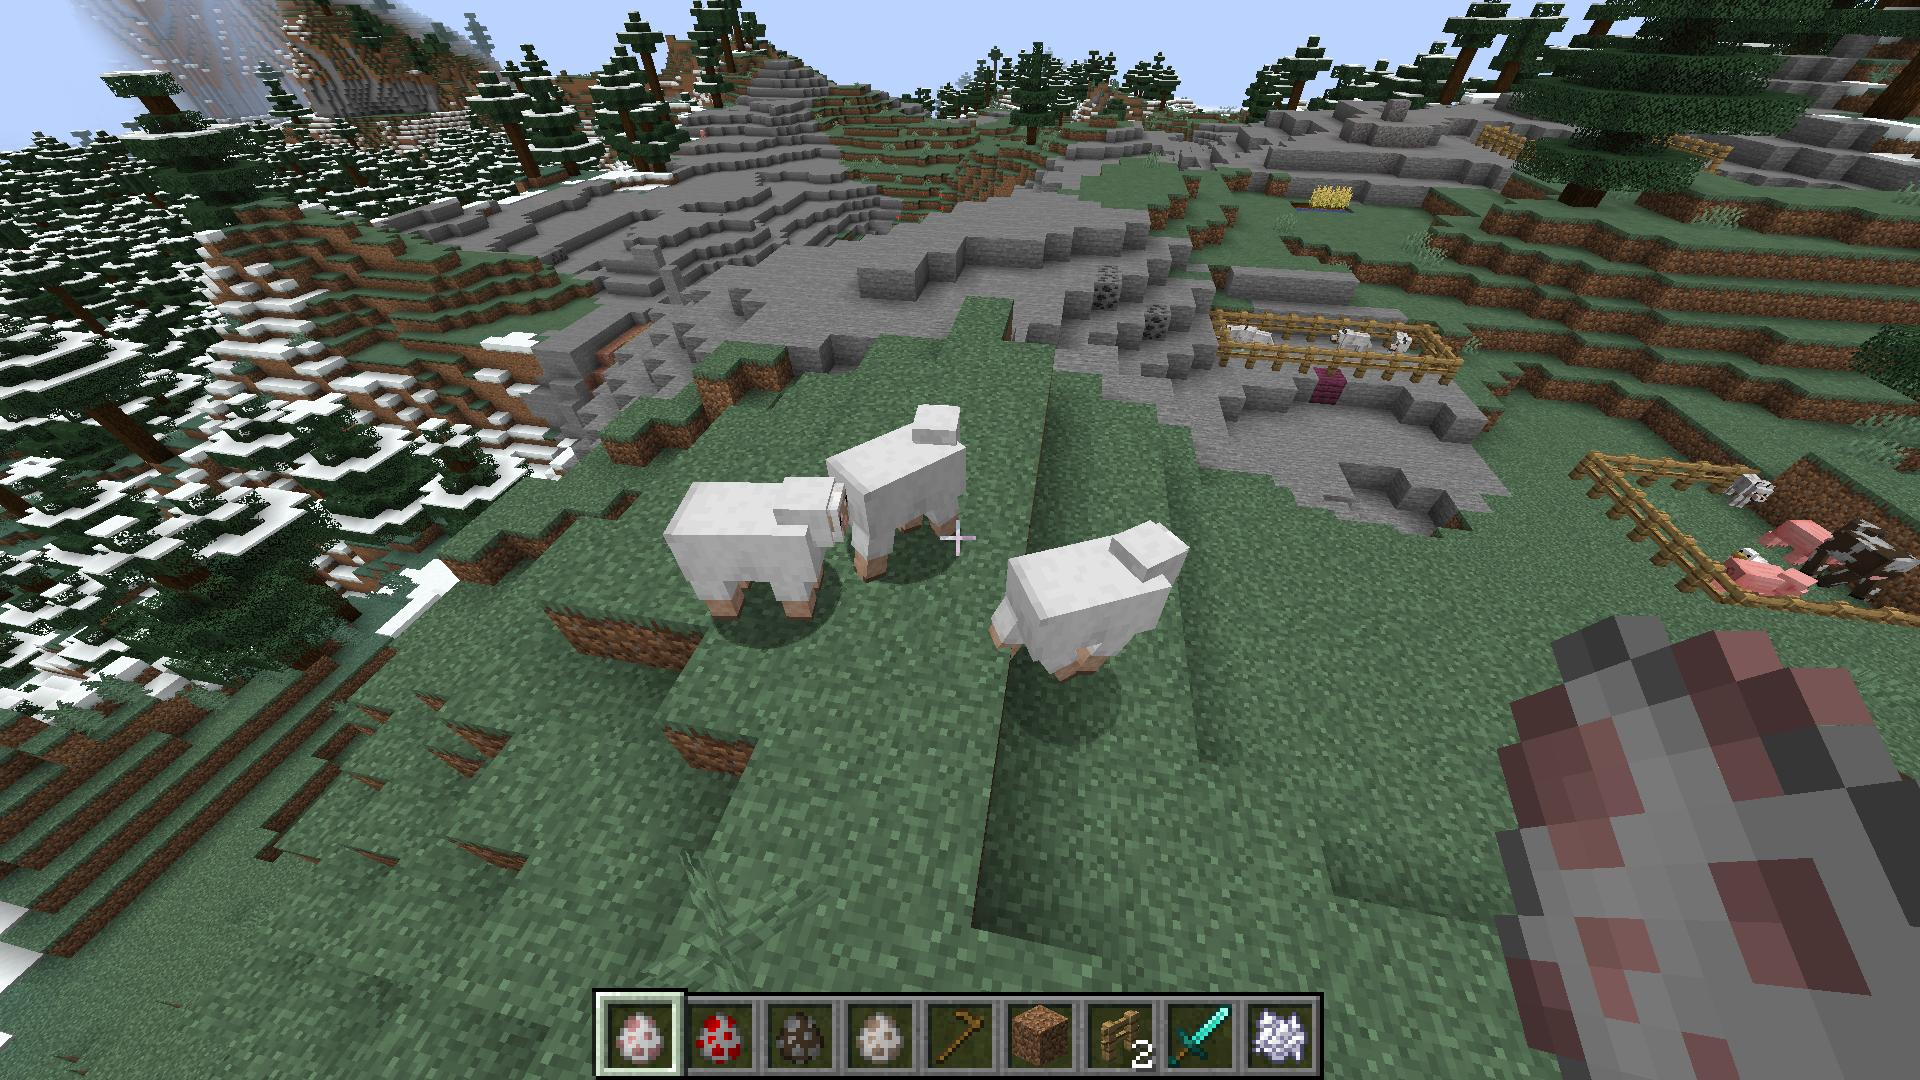sheep: (988, 516, 1192, 682), (658, 473, 856, 628), (824, 401, 975, 582)
